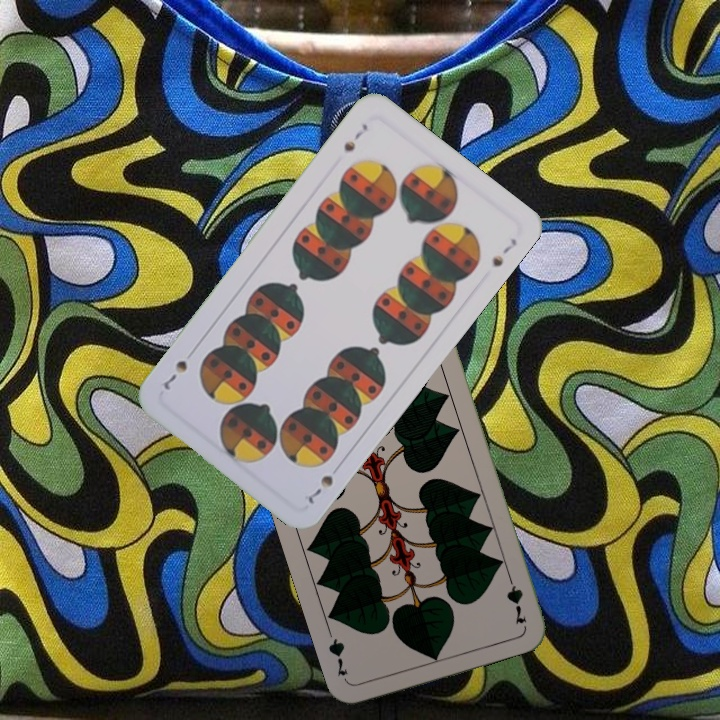G7: (502, 568, 530, 627)
S7: (299, 471, 336, 507), (339, 119, 371, 155)
